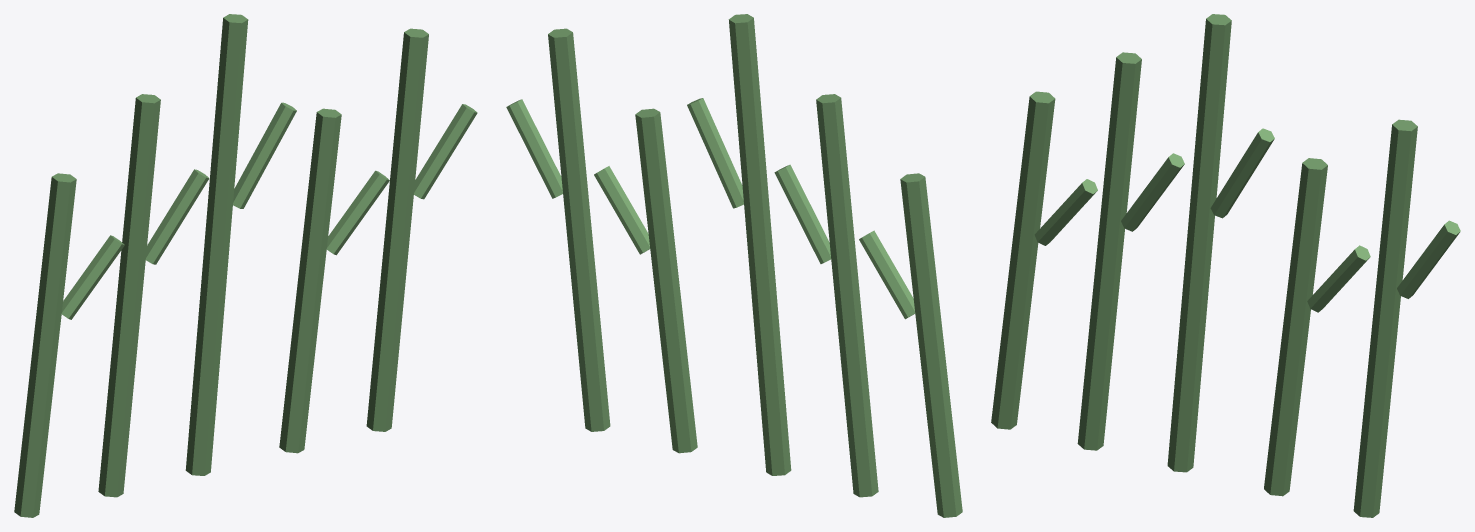
Rendered from granular_reed_bank.glb.
3 views of the same model, side by side, from view 1: azimuth 30°, elevation 25°; view 2: azimuth 150°, elevation 25°; view 3: azimuth 330°, elevation 25° (orthographic). The views are drawn at different scales.
Parts seen in each view (by area): view 1: granular_reed_bank_root; view 2: granular_reed_bank_root; view 3: granular_reed_bank_root.
Boxes of the visible parts, x1=… form: granular_reed_bank_root: x1=14, y1=14, x2=477, y2=517; granular_reed_bank_root: x1=506, y1=14, x2=962, y2=517; granular_reed_bank_root: x1=991, y1=14, x2=1460, y2=517.
Size of the model in its own units: 1.49 by 1.4 by 0.0819.
